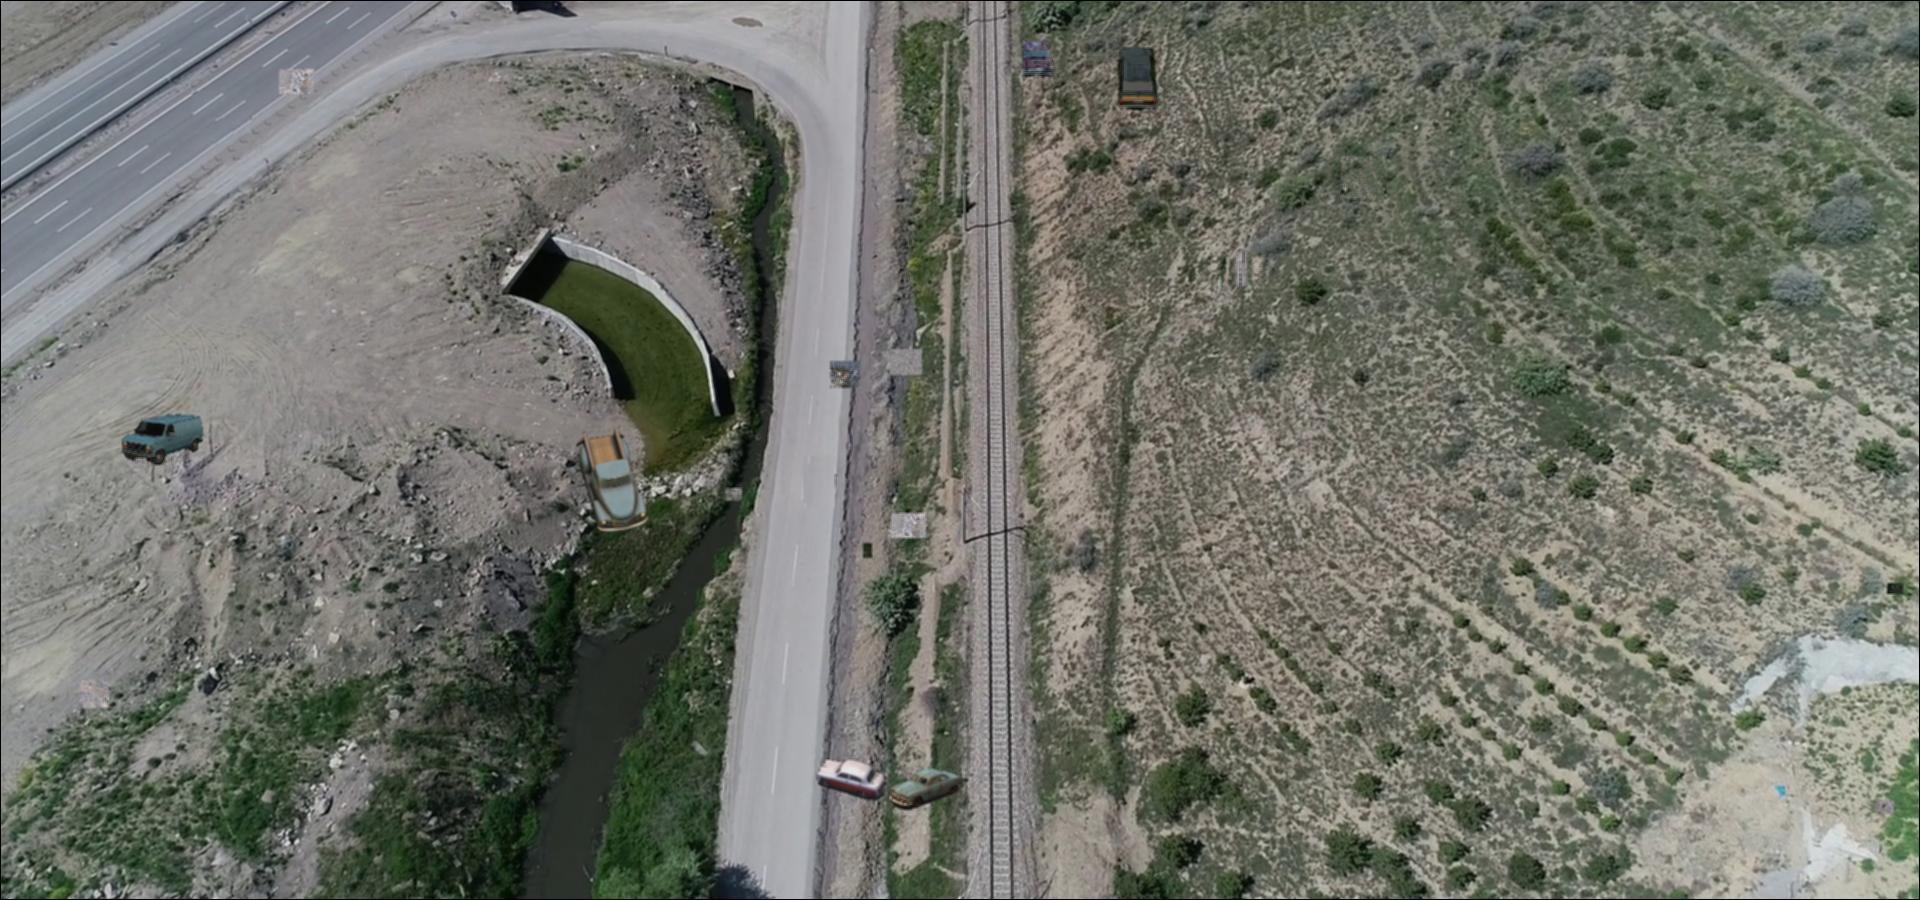arac: (573, 429, 649, 533), (121, 411, 203, 467), (812, 754, 888, 803), (890, 765, 964, 811), (1114, 47, 1160, 110), (1019, 39, 1054, 78)
